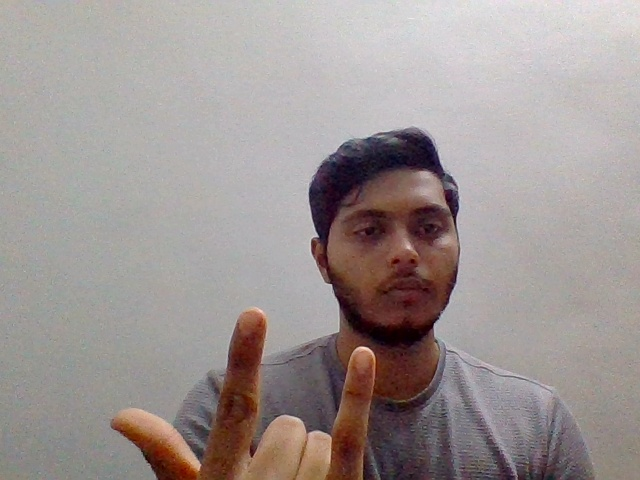I Love You: (106, 294, 382, 480)
